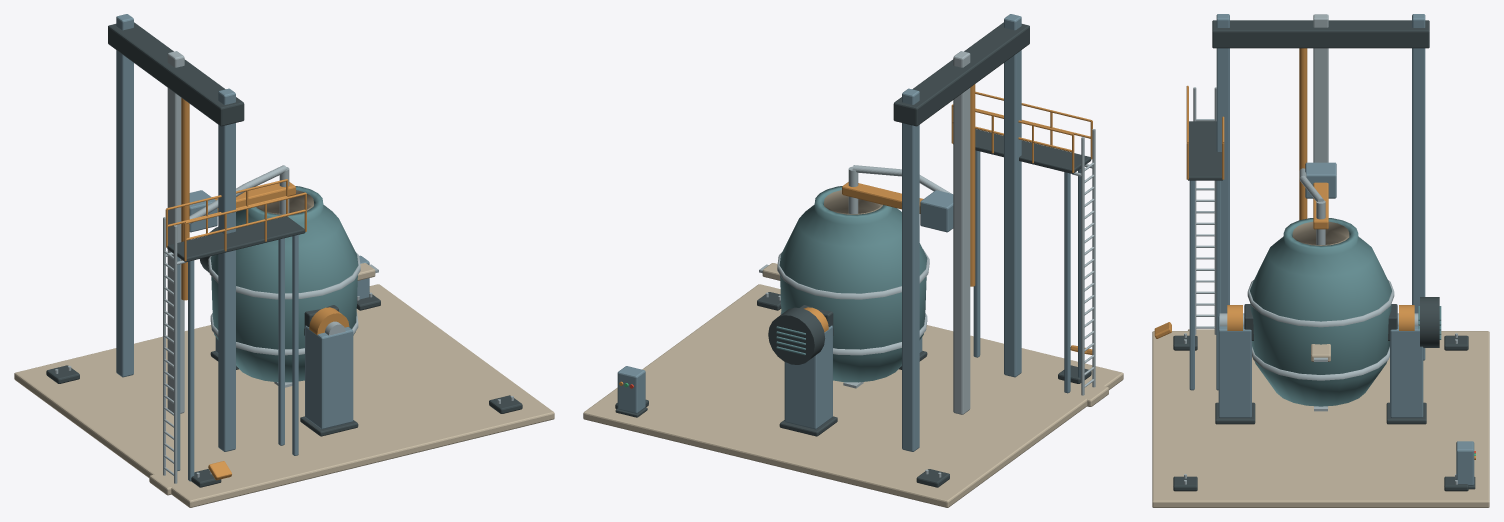
File: BOF-A-lod1.glb
The picture shows the model from 3 angles, left to right: view 1: azimuth 30°, elevation 25°; view 2: azimuth 150°, elevation 25°; view 3: azimuth 270°, elevation 25°; orthographic projection. The views are drawn at different scales.
Parts seen in each view (by area): view 1: foundation, refractory_vessel, lance_tower_-2.2, lance_tower_2.2, lance_crosshead, far_pedestal, lance_linear_guide, lance_service_deck, lance_service_support_1_1, lance_service_support_-1_1, oxygen_supply_trunk, lance_service_support_1_-1 (+8 smaller); view 2: foundation, refractory_vessel, lance_tower_-2.2, lance_linear_guide, lance_tower_2.2, lance_crosshead, near_pedestal, tilt_gearbox, lance_service_deck, lance_service_support_-1_-1, lance_service_support_1_1, lance_carriage (+8 smaller); view 3: foundation, refractory_vessel, lance_crosshead, lance_tower_-2.2, far_pedestal, near_pedestal, lance_tower_2.2, lance_linear_guide, lance_service_deck, oxygen_supply_trunk, lance_service_support_1_1, vessel_hoop_0.65 (+13 smaller).
Part boxes in pixels (bbox=[...]): foundation: bbox=[14, 284, 554, 507]; refractory_vessel: bbox=[210, 186, 358, 382]; lance_tower_-2.2: bbox=[116, 14, 133, 377]; lance_tower_2.2: bbox=[218, 88, 235, 451]; lance_crosshead: bbox=[108, 22, 244, 126]; far_pedestal: bbox=[305, 325, 353, 429]; lance_linear_guide: bbox=[167, 51, 184, 413]; lance_service_deck: bbox=[167, 216, 305, 262]; lance_service_support_1_1: bbox=[292, 235, 298, 455]; lance_service_support_-1_1: bbox=[188, 260, 194, 481]; oxygen_supply_trunk: bbox=[181, 98, 189, 300]; lance_service_support_1_-1: bbox=[278, 238, 284, 445]; foundation: bbox=[583, 284, 1123, 507]; refractory_vessel: bbox=[779, 186, 927, 382]; lance_tower_-2.2: bbox=[902, 88, 919, 451]; lance_linear_guide: bbox=[953, 51, 970, 414]; lance_tower_2.2: bbox=[1004, 14, 1021, 377]; lance_crosshead: bbox=[893, 22, 1029, 126]; near_pedestal: bbox=[784, 325, 832, 429]; tilt_gearbox: bbox=[768, 307, 825, 364]; lance_service_deck: bbox=[975, 129, 1091, 173]; lance_service_support_-1_-1: bbox=[1064, 172, 1070, 393]; lance_service_support_1_1: bbox=[973, 150, 980, 357]; lance_carriage: bbox=[920, 190, 953, 232]; foundation: bbox=[1152, 331, 1489, 507]; refractory_vessel: bbox=[1250, 218, 1391, 406]; lance_crosshead: bbox=[1212, 20, 1429, 48]; lance_tower_-2.2: bbox=[1412, 14, 1425, 360]; far_pedestal: bbox=[1218, 316, 1251, 417]; near_pedestal: bbox=[1390, 326, 1423, 417]; lance_tower_2.2: bbox=[1216, 14, 1229, 313]; lance_linear_guide: bbox=[1313, 14, 1328, 162]; lance_service_deck: bbox=[1188, 121, 1222, 180]; oxygen_supply_trunk: bbox=[1299, 48, 1307, 220]; lance_service_support_1_1: bbox=[1189, 180, 1194, 390]; vessel_hoop_0.65: bbox=[1247, 280, 1394, 327].
Bounding box in the file's own units: 9.2 × 8.87 × 7.6.
